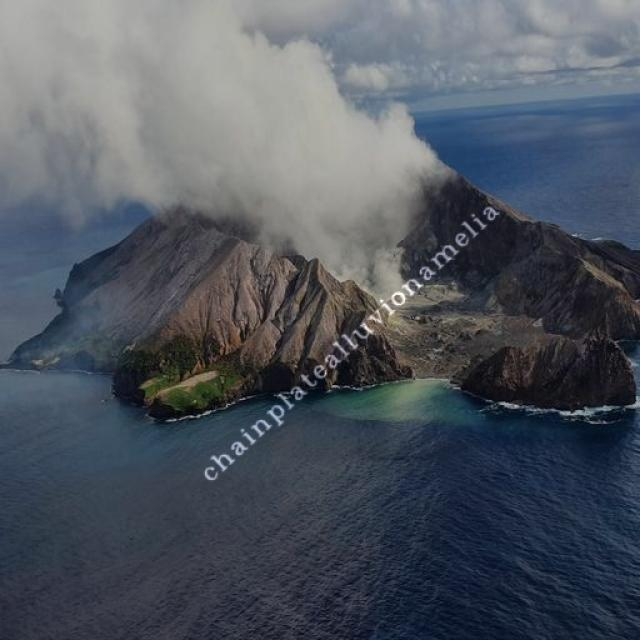watermark: (202, 191, 500, 486)
